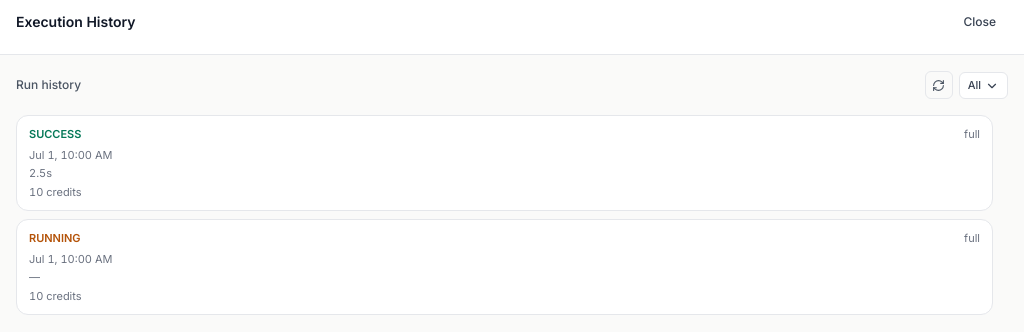
Test: RunHistory › filters runs by status
Check: the text "SUCCESS" is shown, box [29,126,81,142]
Click the dropdown.
click(983, 86)  # box [959,72,1008,99]
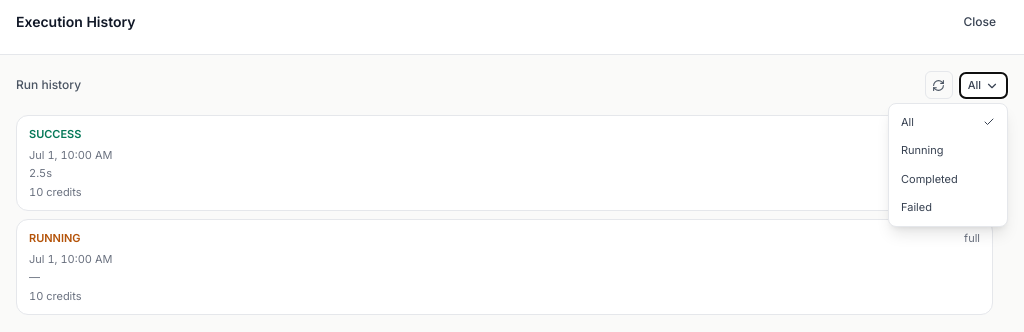
Click the option "Completed".
click(948, 179)  # box [889,165,1007,193]
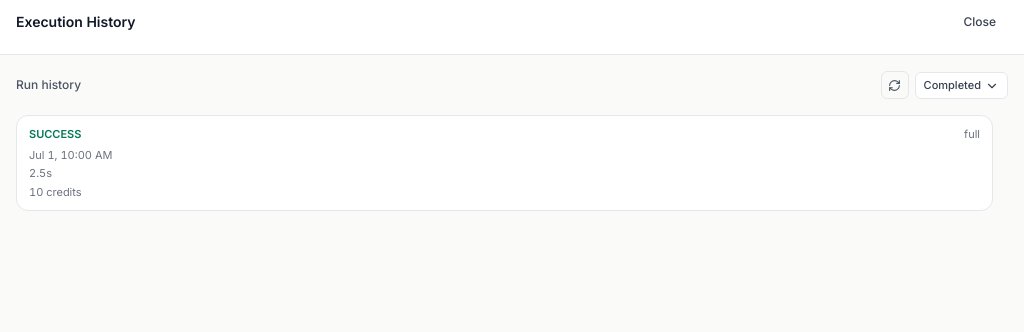
Check: the text "SUCCESS" is shown, box [29,126,81,142]
Check: the text with id "run-status-run-running" is gone
